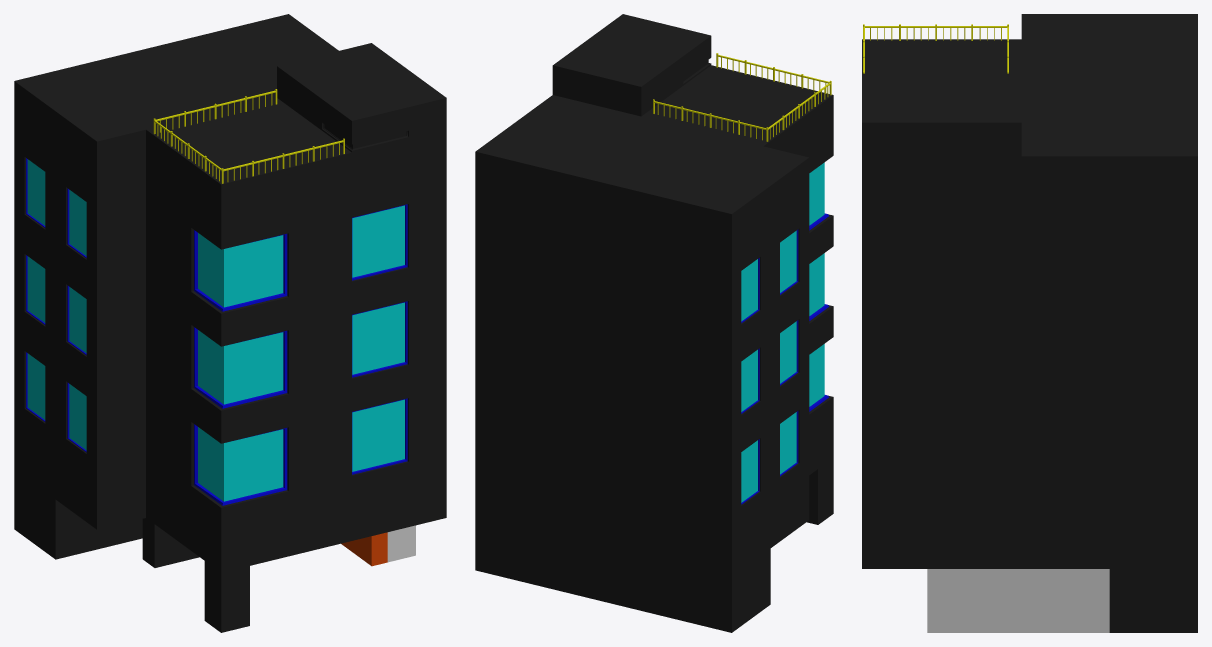
The model's file is Building_21.fbx.
The picture shows the model from 3 angles, left to right: view 1: azimuth 30°, elevation 25°; view 2: azimuth 150°, elevation 25°; view 3: azimuth 270°, elevation 25°; orthographic projection. The views are drawn at different scales.
Parts seen in each view (by area): view 1: Building_21; view 2: Building_21; view 3: Building_21.
Boxes of the visible parts, x1=… form: Building_21: x1=14, y1=14, x2=446, y2=632; Building_21: x1=475, y1=14, x2=833, y2=632; Building_21: x1=862, y1=14, x2=1197, y2=632.
Bounding box in the file's own units: 233 × 390 × 232.
